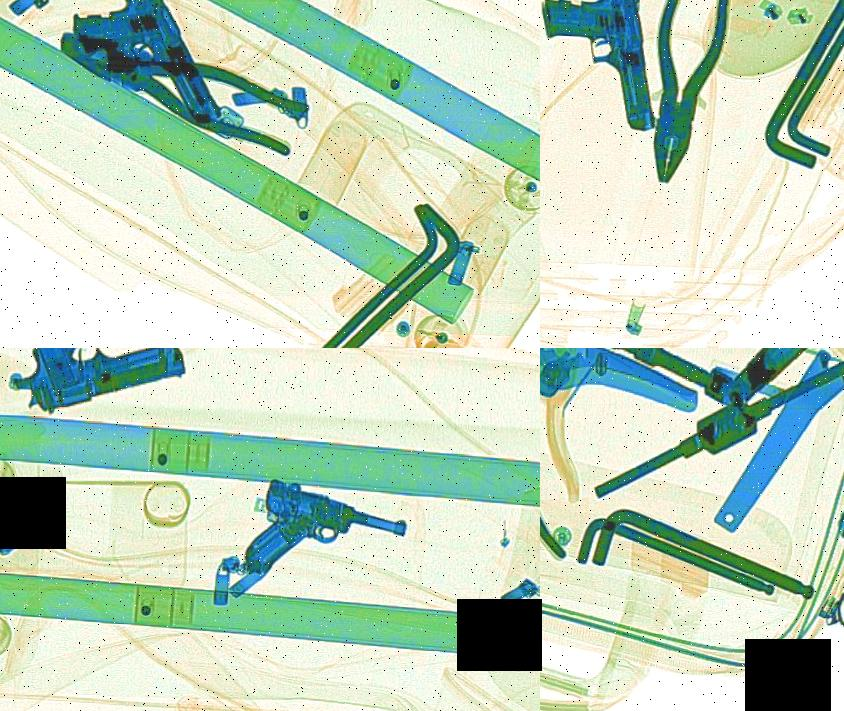Gun: (53, 0, 233, 147), (219, 475, 424, 598), (540, 0, 664, 141), (0, 348, 205, 421)
Pliers: (40, 9, 326, 158), (634, 0, 744, 189)
